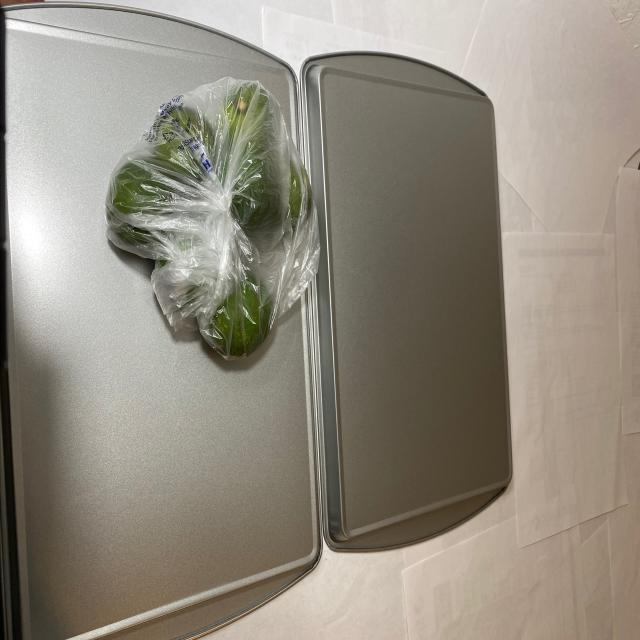lemon: (107, 87, 308, 358)
